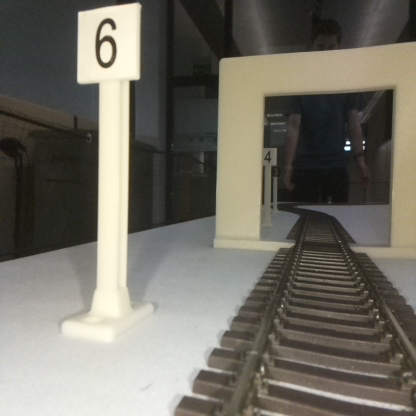white-info-6: (78, 7, 139, 333)
